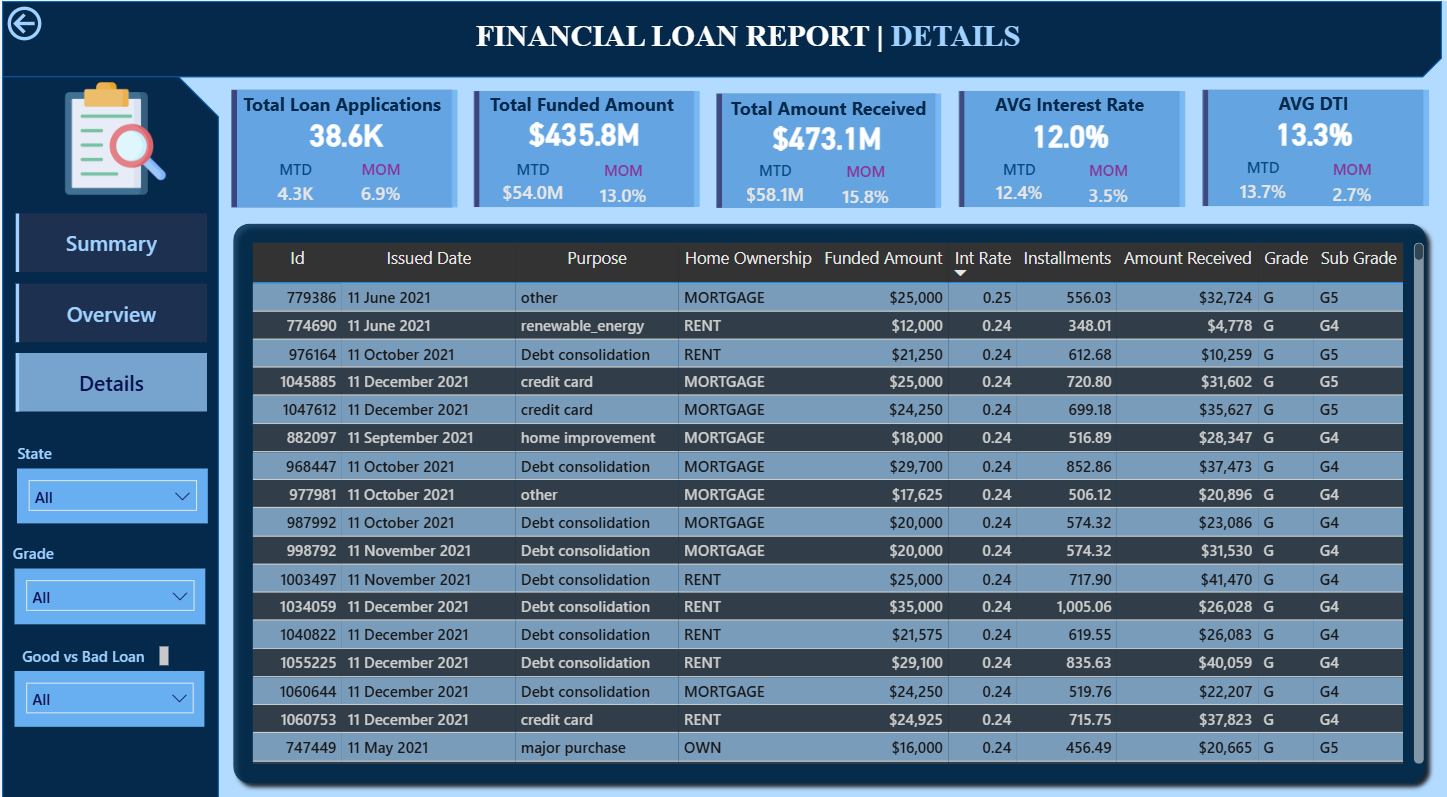

This screenshot's page, from the dashboard's own definition file:
{"tool":"powerbi","page":{"name":"Details","canvas":[1300,720],"ordinal":2},"visuals":[{"type":"shape","box":[0,54.3,192.9,665.7],"z":0},{"type":"shape","box":[202.9,72.9,207.1,115.7],"z":0,"group":"g1"},{"type":"shape","box":[1066.3,72.9,207.4,114.5],"z":0,"group":"g6"},{"type":"shape","box":[418.5,74.3,206.9,114.3],"z":0,"group":"g3"},{"type":"shape","box":[849.5,74.3,207.4,114.3],"z":0,"group":"g5"},{"type":"shape","box":[634.2,75.8,206,112.9],"z":0,"group":"g4"},{"type":"shape","box":[0,0,1280,68],"z":1000},{"type":"group","id":"g1","title":"Group 1","box":[202.9,72.9,207.1,115.7],"z":1000,"group":"g2"},{"type":"textbox","box":[1063.2,74.5,204.7,36.6],"z":1000,"group":"g6"},{"type":"textbox","box":[205.6,74.8,197.8,35.8],"z":1000,"group":"g1"},{"type":"textbox","box":[415.4,75.9,204.2,36.5],"z":1000,"group":"g3"},{"type":"textbox","box":[846.4,75.9,204.7,36.5],"z":1000,"group":"g5"},{"type":"textbox","box":[632.6,77.6,202.9,35.7],"z":1000,"group":"g4"},{"type":"textbox","box":[344,10.7,637.3,44],"z":2000},{"type":"card","title":"MTD","fields":{"Values":["financial_loan_analysis financial_loan_data.MTD AVG DTI"]},"box":[1084.6,138.2,70.9,43.7],"z":2000,"group":"g6"},{"type":"card","title":"MTD","fields":{"Values":["financial_loan_analysis financial_loan_data.MTD Total Funded Amount"]},"box":[436.8,139.5,70.7,43.6],"z":2000,"group":"g3"},{"type":"card","title":"MTD","fields":{"Values":["financial_loan_analysis financial_loan_data.MTD AVG Interest Rate"]},"box":[867.8,139.5,70.9,43.6],"z":2000,"group":"g5"},{"type":"card","title":"MTD","fields":{"Values":["financial_loan_analysis financial_loan_data.MTD Loan Applications"]},"box":[231.9,140,57.6,42.2],"z":2000,"group":"g1"},{"type":"card","title":"MTD","fields":{"Values":["financial_loan_analysis financial_loan_data.MTD Total Amount Received"]},"box":[652.4,140.2,70.4,43],"z":2000,"group":"g4"},{"type":"actionButton","box":[0,0,100,40],"z":3000},{"type":"card","fields":{"Values":["financial_loan_analysis financial_loan_data.Total Funded Amount"]},"box":[415.4,94.7,204.2,45.9],"z":3000,"group":"g3"},{"type":"card","fields":{"Values":["financial_loan_analysis financial_loan_data.Total Loan Applications"]},"box":[206.9,96.2,196.5,42.9],"z":3000,"group":"g1"},{"type":"card","fields":{"Values":["financial_loan_analysis financial_loan_data.AVG DTI"]},"box":[1062.9,96.5,206.1,42.5],"z":3000,"group":"g6"},{"type":"card","fields":{"Values":["financial_loan_analysis financial_loan_data.AVG Interest Rate"]},"box":[846.1,97.9,206.1,42.4],"z":3000,"group":"g5"},{"type":"card","fields":{"Values":["financial_loan_analysis financial_loan_data.Total Amount Received"]},"box":[630.8,99.1,204.7,41.9],"z":3000,"group":"g4"},{"type":"group","id":"g2","title":"Group 2","box":[202.9,72.9,1071.4,115.7],"z":4000},{"type":"card","title":"MOM","fields":{"Values":["financial_loan_analysis financial_loan_data.MOM AVG DTI"]},"box":[1163.5,139.3,73.8,41.7],"z":4000,"group":"g6"},{"type":"card","title":"MOM","fields":{"Values":["financial_loan_analysis financial_loan_data.MOM Loan Applications"]},"box":[299.9,140,73.7,42.2],"z":4000,"group":"g1"},{"type":"card","title":"MOM","fields":{"Values":["financial_loan_analysis financial_loan_data.MOM Total Funded Amount"]},"box":[515.4,140.6,73.6,41.6],"z":4000,"group":"g3"},{"type":"card","title":"MOM","fields":{"Values":["financial_loan_analysis financial_loan_data.MOM AVG Interest Rate"]},"box":[946.7,140.6,73.8,41.6],"z":4000,"group":"g5"},{"type":"card","title":"MOM","fields":{"Values":["financial_loan_analysis financial_loan_data.MOM Amount Received"]},"box":[730.7,141.2,73.3,41.1],"z":4000,"group":"g4"},{"type":"group","id":"g3","title":"Group 1","box":[415.4,74.3,210,114.3],"z":5000,"group":"g2"},{"type":"shape","box":[196.2,188.5,1078.2,515.4],"z":5000},{"type":"group","id":"g4","title":"Group 1","box":[630.8,75.8,209.4,112.9],"z":6000,"group":"g2"},{"type":"tableEx","fields":{"Values":["financial_loan_analysis financial_loan_data.id","financial_loan_analysis financial_loan_data.issued_date_dt","financial_loan_analysis financial_loan_data.purpose","financial_loan_analysis financial_loan_data.home_ownership","financial_loan_analysis financial_loan_data.Total Funded Amount","Sum(financial_loan_analysis financial_loan_data.int_rate)","Sum(financial_loan_analysis financial_loan_data.installment)","financial_loan_analysis financial_loan_data.Total Amount Received","financial_loan_analysis financial_loan_data.grade","financial_loan_analysis financial_loan_data.sub_grade"]},"box":[216.7,210.3,1052.6,473.1],"z":6000},{"type":"textbox","box":[1.4,387.5,55.6,27.5],"z":6000,"group":"g7"},{"type":"group","id":"g5","title":"Group 1","box":[846.1,74.3,211.4,114.3],"z":7000,"group":"g2"},{"type":"pageNavigator","box":[12.5,188.8,170,177.5],"z":7000},{"type":"slicer","fields":{"Values":["financial_loan_analysis financial_loan_data.address_state"]},"box":[12.8,415,169.7,48.5],"z":7000,"group":"g7"},{"type":"group","id":"g6","title":"Group 1","box":[1062.9,72.9,211.4,115.7],"z":8000,"group":"g2"},{"type":"group","id":"g7","title":"Group 3","box":[0,387.5,182.5,257.5],"z":8000},{"type":"slicer","fields":{"Values":["financial_loan_analysis financial_loan_data.grade"]},"box":[11.2,504.4,169.7,49.3],"z":8000,"group":"g7"},{"type":"image","box":[50,72.5,101.2,100],"z":9000},{"type":"slicer","fields":{"Values":["financial_loan_analysis financial_loan_data.Good vs Bad Loans"]},"box":[11,595.5,169.2,49.2],"z":9000,"group":"g7"},{"type":"textbox","box":[0,568.7,153.4,26.8],"z":10000,"group":"g7"},{"type":"textbox","box":[0,476.6,55.6,27.5],"z":11000,"group":"g7"}]}

Visuals, with their boxes in screenshot pixels (x1, y1, x2, y2), scaled from the page's 1300x720 canvas onto the 1447x797 screenshot:
shape: 0,60,215,796
shape: 226,81,456,209
shape: 1187,81,1418,207
shape: 466,82,696,209
shape: 946,82,1176,209
shape: 706,84,935,209
shape: 0,0,1425,75
"Group 1" group: 226,81,456,209
textbox: 1183,82,1411,123
textbox: 229,83,449,122
textbox: 462,84,690,124
textbox: 942,84,1170,124
textbox: 704,86,930,125
textbox: 383,12,1092,61
"MTD" card: 1207,153,1286,201
"MTD" card: 486,154,565,203
"MTD" card: 966,154,1045,203
"MTD" card: 258,155,322,202
"MTD" card: 726,155,805,203
actionButton: 0,0,111,44
card - financial_loan_analysis financial_loan_data.Total Funded Amount: 462,105,690,156
card - financial_loan_analysis financial_loan_data.Total Loan Applications: 230,106,449,154
card - financial_loan_analysis financial_loan_data.AVG DTI: 1183,107,1412,154
card - financial_loan_analysis financial_loan_data.AVG Interest Rate: 942,108,1171,155
card - financial_loan_analysis financial_loan_data.Total Amount Received: 702,110,930,156
"Group 2" group: 226,81,1418,209
"MOM" card: 1295,154,1377,200
"MOM" card: 334,155,416,202
"MOM" card: 574,156,656,202
"MOM" card: 1054,156,1136,202
"MOM" card: 813,156,895,202
"Group 1" group: 462,82,696,209
shape: 218,209,1419,779
"Group 1" group: 702,84,935,209
tableEx - financial_loan_analysis financial_loan_data.id x financial_loan_analysis financial_loan_data.issued_date_dt: 241,233,1413,756
textbox: 2,429,63,459
"Group 1" group: 942,82,1177,209
pageNavigator: 14,209,203,405
slicer - financial_loan_analysis financial_loan_data.address_state: 14,459,203,513
"Group 1" group: 1183,81,1418,209
"Group 3" group: 0,429,203,714
slicer - financial_loan_analysis financial_loan_data.grade: 12,558,201,613
image: 56,80,168,191
slicer - financial_loan_analysis financial_loan_data.Good vs Bad Loans: 12,659,201,714
textbox: 0,630,171,659
textbox: 0,528,62,558
